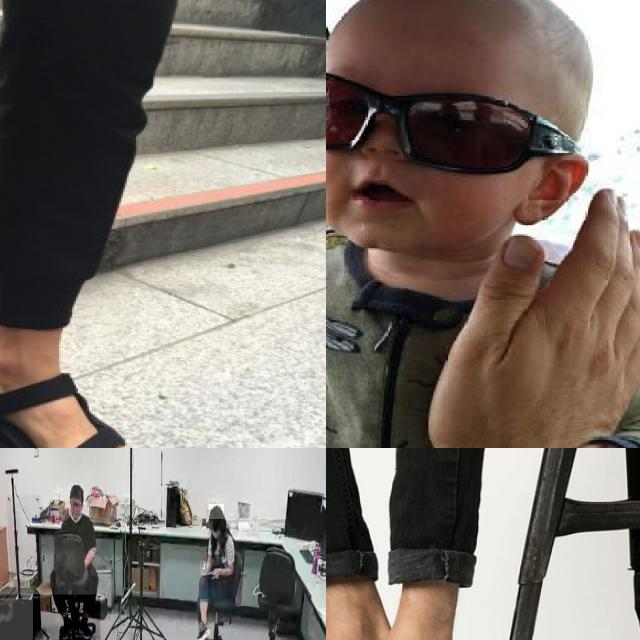No_Ear-Protection: (515, 143, 593, 228)
face_nomask: (326, 64, 467, 253), (70, 496, 82, 518)
glasses: (326, 63, 591, 183)
hand_noglove: (412, 165, 640, 448), (200, 561, 210, 576), (211, 566, 221, 578)
head_nohelmet: (337, 0, 593, 57), (0, 598, 33, 640), (208, 504, 224, 520), (69, 483, 83, 497)
person: (55, 487, 101, 627), (195, 506, 240, 640)
shoes: (77, 610, 94, 640), (56, 613, 73, 640), (195, 619, 210, 640)
